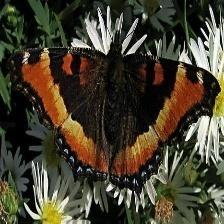butterfly: (11, 43, 221, 192)
